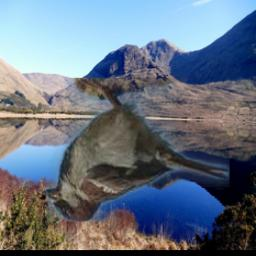Sparrow: (45, 78, 229, 222)
